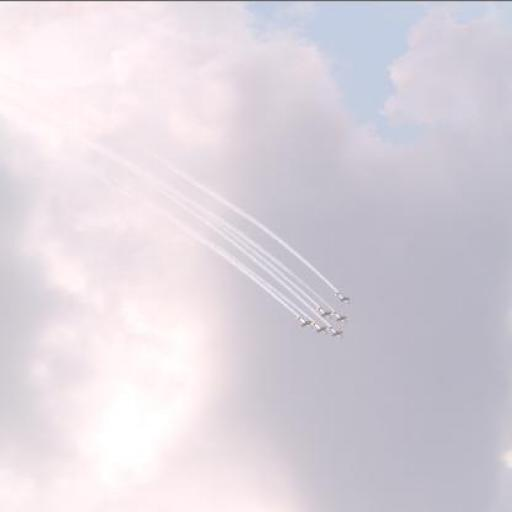aircraft: (332, 289, 352, 304), (290, 314, 312, 327), (326, 324, 344, 338), (312, 320, 328, 335), (315, 304, 332, 318), (331, 309, 348, 322)
